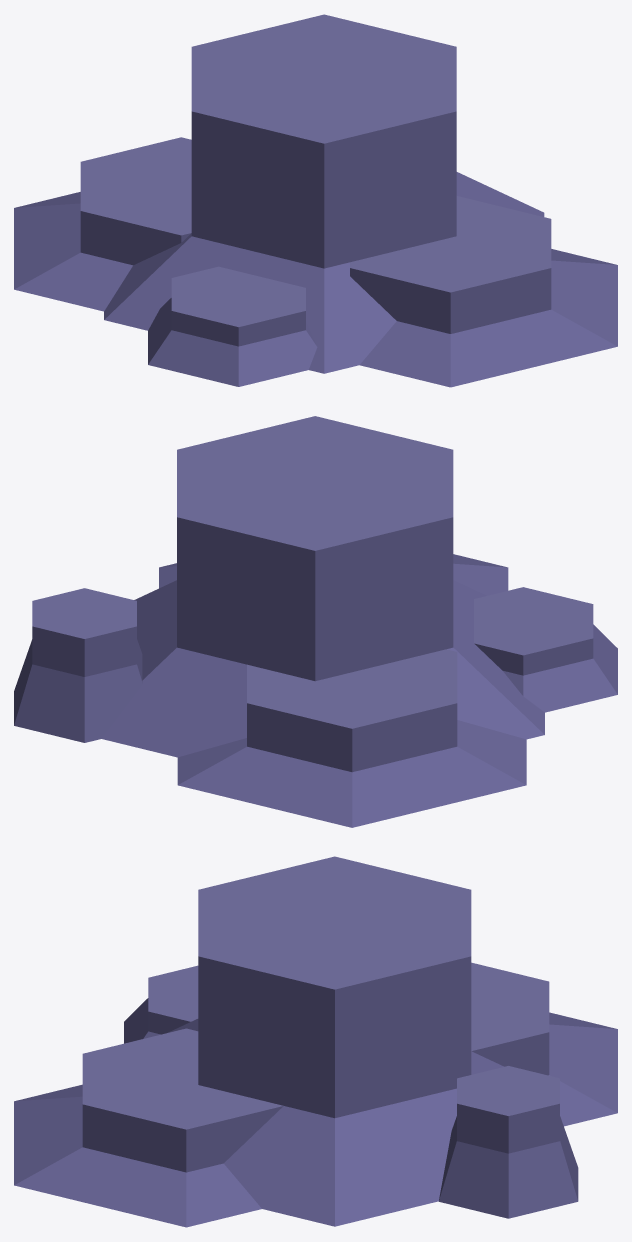
The model's file is rock-3.glb.
The picture shows the model from 3 angles, top to bottom: view 1: azimuth 30°, elevation 25°; view 2: azimuth 150°, elevation 25°; view 3: azimuth 270°, elevation 25°; orthographic projection. The views are drawn at different scales.
Parts seen in each view (by area): view 1: rock; view 2: rock; view 3: rock.
Boxes of the visible parts, x1,y1,x2,y2 form: rock: (14, 14, 617, 387); rock: (14, 416, 617, 827); rock: (14, 856, 617, 1227).
Bounding box in the file's own units: 0.8015 × 0.3 × 0.8509.
